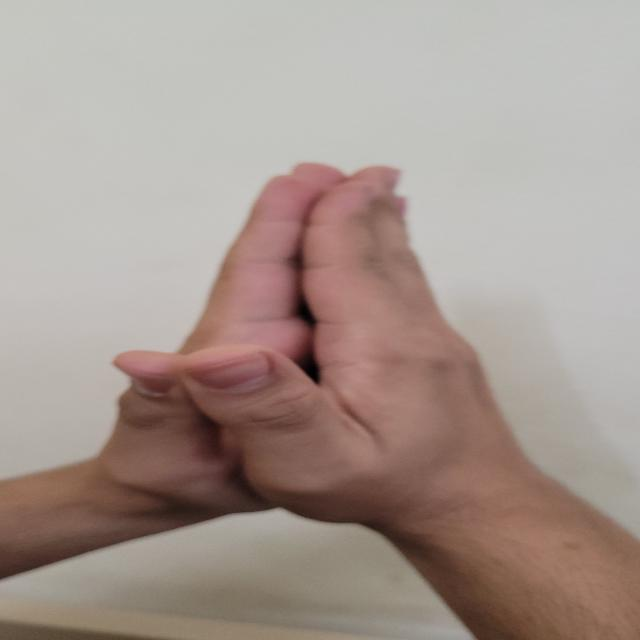Thank You: (51, 152, 515, 576)
